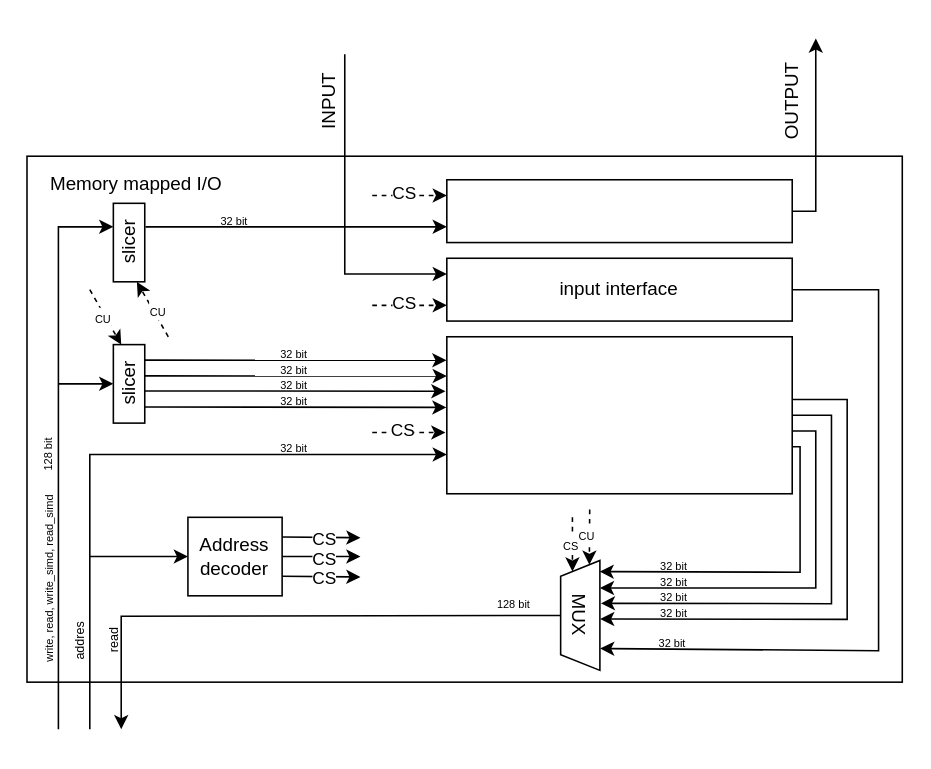
Some shapes in this 931 by 769 pixel diagram are drawn without their labels. Each missing label, with the centre of its shape:
"Data mem" belongs at point 618,414.
"output interface" belongs at point 618,210.
